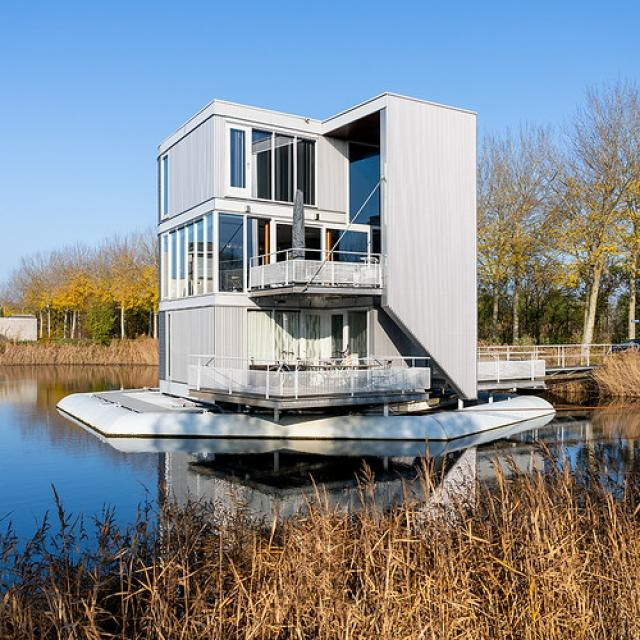Normal_building: (154, 86, 480, 408)
